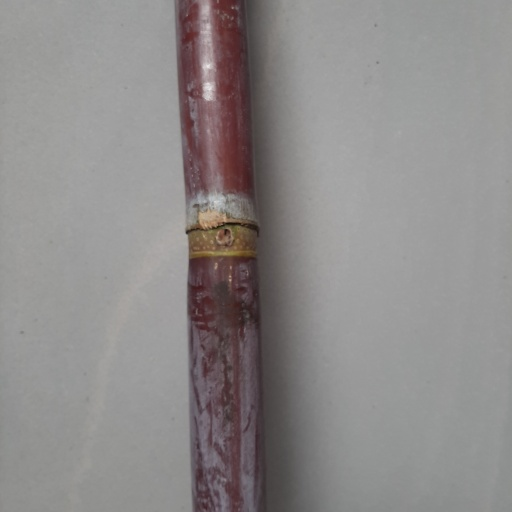Damage_Bud: (215, 225, 235, 247)
